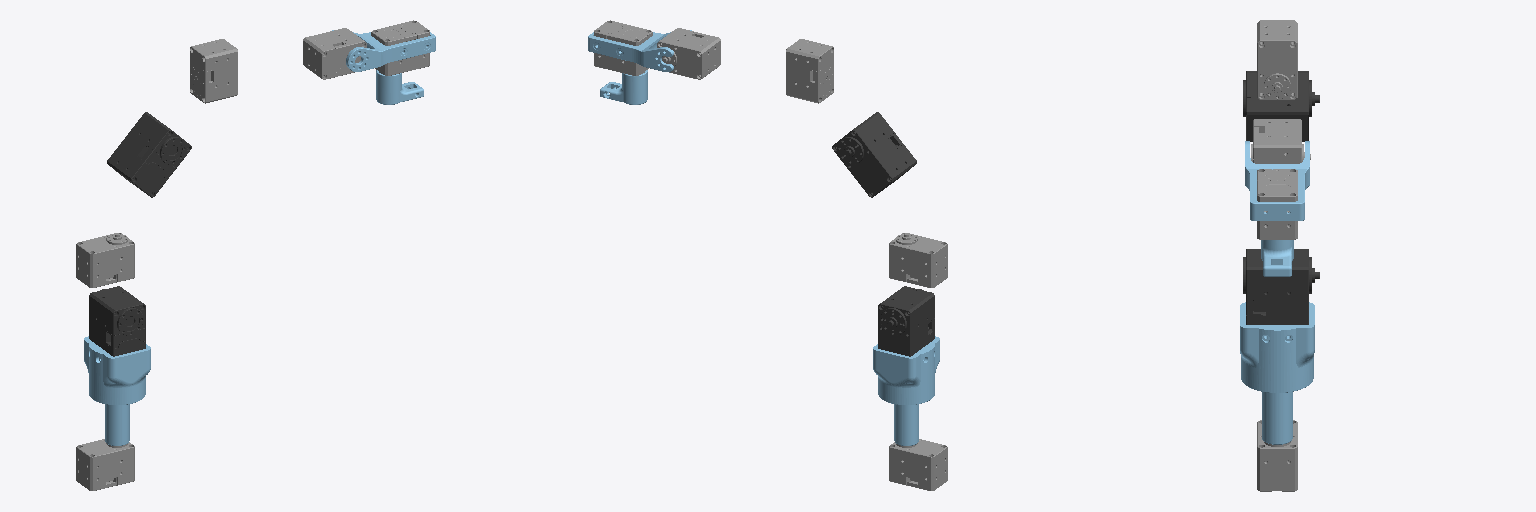
URDF robot description (franka_exo):
<?xml version="1.0" ?>
<robot name="franka_exo">
  <!-- Link link_base -->
  <link name="link_base">
    <inertial>
      <origin xyz="-0.00631608 1.96769e-09 0.0373238" rpy="0 0 0"/>
      <mass value="0.0921375"/>
      <inertia ixx="0.000196007" ixy="-7.51359e-11" ixz="-2.24846e-05" iyy="0.000181714" iyz="-1.08584e-10" izz="0.000140674"/>
    </inertial>
    <!-- Part link_base -->
    <visual>
      <origin xyz="0 0 0" rpy="0 -0 0"/>
      <geometry>
        <mesh filename="package://assets/link_base.stl"/>
      </geometry>
      <material name="link_base_material">
        <color rgba="0.615686 0.811765 0.929412 1.0"/>
      </material>
    </visual>
    <collision>
      <origin xyz="0 0 0" rpy="0 -0 0"/>
      <geometry>
        <mesh filename="package://assets/link_base.stl"/>
      </geometry>
    </collision>
  </link>
  <!-- Link motor430_1 -->
  <link name="motor430_1">
    <inertial>
      <origin xyz="-0.0117508 -1.04071e-11 -0.0163946" rpy="0 0 0"/>
      <mass value="0.082"/>
      <inertia ixx="5.47996e-05" ixy="-2.69242e-13" ixz="-9.68372e-07" iyy="9.33719e-05" iyz="-3.58994e-14" izz="8.21586e-05"/>
    </inertial>
    <!-- Part motor430_1 -->
    <visual>
      <origin xyz="0 0 -0.037" rpy="0 -0 0"/>
      <geometry>
        <mesh filename="package://assets/motor430_1.stl"/>
      </geometry>
      <material name="motor430_1_material">
        <color rgba="0.647059 0.647059 0.647059 1.0"/>
      </material>
    </visual>
    <collision>
      <origin xyz="0 0 -0.037" rpy="0 -0 0"/>
      <geometry>
        <mesh filename="package://assets/motor430_1.stl"/>
      </geometry>
    </collision>
  </link>
  <!-- Link link_0 -->
  <link name="link_0">
    <inertial>
      <origin xyz="1.69981e-05 1.84769e-08 0.0628928" rpy="0 0 0"/>
      <mass value="0.07936"/>
      <inertia ixx="7.09676e-05" ixy="1.2917e-10" ixz="2.75894e-08" iyy="6.98041e-05" iyz="2.31576e-12" izz="4.26188e-05"/>
    </inertial>
    <!-- Part link_0 -->
    <visual>
      <origin xyz="-3.08149e-33 -1.62714e-18 -0.0394" rpy="-6.12323e-17 -0 -5.80831e-33"/>
      <geometry>
        <mesh filename="package://assets/link_0.stl"/>
      </geometry>
      <material name="link_0_material">
        <color rgba="0.615686 0.811765 0.929412 1.0"/>
      </material>
    </visual>
    <collision>
      <origin xyz="-3.08149e-33 -1.62714e-18 -0.0394" rpy="-6.12323e-17 -0 -5.80831e-33"/>
      <geometry>
        <mesh filename="package://assets/link_0.stl"/>
      </geometry>
    </collision>
  </link>
  <!-- Link motor540_2 -->
  <link name="motor540_2">
    <inertial>
      <origin xyz="-3.71779e-10 -0.000530347 -0.0297101" rpy="0 0 0"/>
      <mass value="0.173"/>
      <inertia ixx="0.00030311" ixy="4.07257e-12" ixz="8.1428e-13" iyy="0.000250045" iyz="-1.41225e-06" izz="0.000172066"/>
    </inertial>
    <!-- Part motor540_2 -->
    <visual>
      <origin xyz="1.59157e-17 1.55134e-17 0.12175" rpy="3.14159 -0 5.80831e-33"/>
      <geometry>
        <mesh filename="package://assets/motor540_2.stl"/>
      </geometry>
      <material name="motor540_2_material">
        <color rgba="0.301961 0.301961 0.301961 1.0"/>
      </material>
    </visual>
    <collision>
      <origin xyz="1.59157e-17 1.55134e-17 0.12175" rpy="3.14159 -0 5.80831e-33"/>
      <geometry>
        <mesh filename="package://assets/motor540_2.stl"/>
      </geometry>
    </collision>
  </link>
  <!-- Link link_1 -->
  <link name="link_1">
    <inertial>
      <origin xyz="0.000692268 -0.0612309 -0.0247849" rpy="0 0 0"/>
      <!-- 0.1381+0.0214-0.082 -->
      <mass value="0.0775"/>
      <inertia ixx="0.000128786" ixy="-3.56721e-07" ixz="-7.31199e-09" iyy="5.54436e-05" iyz="7.41134e-07" izz="0.000108163"/>
    </inertial>
    <!-- Part link_1 -->
    <visual>
      <origin xyz="1.63123e-17 0.1665 -0.0247" rpy="1.5708 -1.40039e-45 0"/>
      <geometry>
        <mesh filename="package://assets/link_1.stl"/>
      </geometry>
      <material name="link_1_material">
        <color rgba="0.615686 0.811765 0.929412 1.0"/>
      </material>
    </visual>
    <collision>
      <origin xyz="1.63123e-17 0.1665 -0.0247" rpy="1.5708 -1.40039e-45 0"/>
      <geometry>
        <mesh filename="package://assets/link_1.stl"/>
      </geometry>
    </collision>
  </link>
  <!-- Link motor430_3 -->
  <link name="motor430_3">
    <inertial>
      <origin xyz="-0.0117508 -1.04073e-11 -0.0163946" rpy="0 0 0"/>
      <mass value="0.082"/>
      <inertia ixx="5.47996e-05" ixy="-2.69242e-13" ixz="-9.68372e-07" iyy="9.33719e-05" iyz="-3.59002e-14" izz="8.21586e-05"/>
    </inertial>
    <!-- Part motor430_3 -->
    <visual>
      <origin xyz="0 0 -0.237" rpy="5.60519e-45 -0 -5.06258e-45"/>
      <geometry>
        <mesh filename="package://assets/motor430_3.stl"/>
      </geometry>
      <material name="motor430_3_material">
        <color rgba="0.647059 0.647059 0.647059 1.0"/>
      </material>
    </visual>
    <collision>
      <origin xyz="0 0 -0.237" rpy="5.60519e-45 -0 -5.06258e-45"/>
      <geometry>
        <mesh filename="package://assets/motor430_3.stl"/>
      </geometry>
    </collision>
  </link>
  <!-- Link link_2 -->
  <link name="link_2">
    <inertial>
      <origin xyz="0.00261601 2.96796e-07 0.0474293" rpy="0 0 0"/>
      <mass value="0.0444"/>
      <inertia ixx="5.81373e-05" ixy="5.49634e-10" ixz="-2.48539e-06" iyy="5.58639e-05" iyz="1.1429e-10" izz="5.27528e-05"/>
    </inertial>
    <!-- Part link_2 -->
    <visual>
      <origin xyz="-1.2326e-32 1.41753e-17 -0.239227" rpy="5.60519e-45 -4.93038e-32 2.52435e-29"/>
      <geometry>
        <mesh filename="package://assets/link_2.stl"/>
      </geometry>
      <material name="link_2_material">
        <color rgba="0.615686 0.811765 0.929412 1.0"/>
      </material>
    </visual>
    <collision>
      <origin xyz="-1.2326e-32 1.41753e-17 -0.239227" rpy="5.60519e-45 -4.93038e-32 2.52435e-29"/>
      <geometry>
        <mesh filename="package://assets/link_2.stl"/>
      </geometry>
    </collision>
  </link>
  <!-- Link motor540_4 -->
  <link name="motor540_4">
    <inertial>
      <origin xyz="0.0229601 -0.00853035 -0.01675" rpy="0 0 0"/>
      <mass value="0.1732"/>
      <inertia ixx="0.000172066" ixy="1.41225e-06" ixz="-8.1428e-13" iyy="0.000250045" iyz="4.07257e-12" izz="0.00030311"/>
    </inertial>
    <!-- Part motor540_4 -->
    <visual>
      <origin xyz="-0.222569 -0.008 0.181593" rpy="3.14159 -0.785398 1.12104e-44"/>
      <geometry>
        <mesh filename="package://assets/motor540_4.stl"/>
      </geometry>
      <material name="motor540_4_material">
        <color rgba="0.301961 0.301961 0.301961 1.0"/>
      </material>
    </visual>
    <collision>
      <origin xyz="-0.222569 -0.008 0.181593" rpy="3.14159 -0.785398 1.12104e-44"/>
      <geometry>
        <mesh filename="package://assets/motor540_4.stl"/>
      </geometry>
    </collision>
  </link>
  <!-- Link link_3 -->
  <link name="link_3">
    <inertial>
      <origin xyz="-0.0344992 -0.0669003 -0.0247597" rpy="0 0 0"/>
      <!-- 0.145-0.082+0.0214 -->
      <mass value="0.0844"/>
      <inertia ixx="0.000269491" ixy="-6.36052e-05" ixz="4.3825e-07" iyy="8.92212e-05" iyz="8.09945e-07" izz="0.000281089"/>
    </inertial>
    <!-- Part link_3 -->
    <visual>
      <origin xyz="-0.044 0.3245 -0.0247" rpy="1.5708 3.76984e-17 0"/>
      <geometry>
        <mesh filename="package://assets/link_3.stl"/>
      </geometry>
      <material name="link_3_material">
        <color rgba="0.615686 0.811765 0.929412 1.0"/>
      </material>
    </visual>
    <collision>
      <origin xyz="-0.044 0.3245 -0.0247" rpy="1.5708 3.76984e-17 0"/>
      <geometry>
        <mesh filename="package://assets/link_3.stl"/>
      </geometry>
    </collision>
  </link>
  <!-- Link motor430_5 -->
  <link name="motor430_5">
    <inertial>
      <origin xyz="-0.0117508 -1.04063e-11 -0.0163946" rpy="0 0 0"/>
      <mass value="0.082"/>
      <inertia ixx="5.47996e-05" ixy="-2.6924e-13" ixz="-9.68372e-07" iyy="9.33719e-05" iyz="-3.58955e-14" izz="8.21586e-05"/>
    </inertial>
    <!-- Part motor430_5 -->
    <visual>
      <origin xyz="0 -1.17343e-29 -0.397" rpy="1.79736e-30 -0 0"/>
      <geometry>
        <mesh filename="package://assets/motor430_5.stl"/>
      </geometry>
      <material name="motor430_5_material">
        <color rgba="0.647059 0.647059 0.647059 1.0"/>
      </material>
    </visual>
    <collision>
      <origin xyz="0 -1.17343e-29 -0.397" rpy="1.79736e-30 -0 0"/>
      <geometry>
        <mesh filename="package://assets/motor430_5.stl"/>
      </geometry>
    </collision>
  </link>
  <!-- Link link_4 -->
  <link name="link_4">
    <inertial>
      <origin xyz="1.68698e-05 1.58818e-07 0.0624505" rpy="0 0 0"/>
      <mass value="0.039"/>
      <inertia ixx="6.0696e-05" ixy="-1.77117e-10" ixz="2.08334e-08" iyy="5.96305e-05" iyz="6.61369e-11" izz="3.09362e-05"/>
    </inertial>
    <!-- Part link_4 -->
    <visual>
      <origin xyz="0 -2.251e-18 -0.3992" rpy="3.87091e-30 -0 0"/>
      <geometry>
        <mesh filename="package://assets/link_4.stl"/>
      </geometry>
      <material name="link_4_material">
        <color rgba="0.615686 0.811765 0.929412 1.0"/>
      </material>
    </visual>
    <collision>
      <origin xyz="0 -2.251e-18 -0.3992" rpy="3.87091e-30 -0 0"/>
      <geometry>
        <mesh filename="package://assets/link_4.stl"/>
      </geometry>
    </collision>
  </link>
  <!-- Link motor430_6 -->
  <link name="motor430_6">
    <inertial>
      <origin xyz="0.0063931 -0.016384 -0.01425" rpy="0 0 0"/>
      <mass value="0.082"/>
      <inertia ixx="8.28941e-05" ixy="1.18561e-07" ixz="3.69975e-14" iyy="5.62377e-05" iyz="-2.58387e-13" izz="9.53494e-05"/>
    </inertial>
    <!-- Part motor430_6 -->
    <visual>
      <origin xyz="0.006 0.4885 -0.01425" rpy="1.5708 1.5708 0"/>
      <geometry>
        <mesh filename="package://assets/motor430_6.stl"/>
      </geometry>
      <material name="motor430_6_material">
        <color rgba="0.647059 0.647059 0.647059 1.0"/>
      </material>
    </visual>
    <collision>
      <origin xyz="0.006 0.4885 -0.01425" rpy="1.5708 1.5708 0"/>
      <geometry>
        <mesh filename="package://assets/motor430_6.stl"/>
      </geometry>
    </collision>
  </link>
  <!-- Link link_5 -->
  <link name="link_5">
    <inertial>
      <origin xyz="0.0361167 0.00387419 -0.0195081" rpy="0 0 0"/>
      <!-- 0.022+0.082 -->
      <mass value="0.104"/>
      <inertia ixx="6.832e-06" ixy="-5.00654e-07" ixz="-3.31464e-07" iyy="2.04595e-05" iyz="-2.9315e-08" izz="1.47742e-05"/>
    </inertial>
    <!-- Part motor_7 -->
    <visual>
      <origin xyz="-3.33067e-16 0.5165 -0.0192" rpy="1.5708 3.8416e-14 -5.55112e-17"/>
      <geometry>
        <mesh filename="package://assets/motor_7.stl"/>
      </geometry>
      <material name="motor_7_material">
        <color rgba="0.647059 0.647059 0.647059 1.0"/>
      </material>
    </visual>
    <collision>
      <origin xyz="-3.33067e-16 0.5165 -0.0192" rpy="1.5708 3.8416e-14 -5.55112e-17"/>
      <geometry>
        <mesh filename="package://assets/motor_7.stl"/>
      </geometry>
    </collision>
    <!-- Part link_5 -->
    <visual>
      <origin xyz="2.77556e-17 0.5165 -0.0192" rpy="1.5708 -6.13657e-30 0"/>
      <geometry>
        <mesh filename="package://assets/link_5.stl"/>
      </geometry>
      <material name="link_5_material">
        <color rgba="0.615686 0.811765 0.929412 1.0"/>
      </material>
    </visual>
    <collision>
      <origin xyz="2.77556e-17 0.5165 -0.0192" rpy="1.5708 -6.13657e-30 0"/>
      <geometry>
        <mesh filename="package://assets/link_5.stl"/>
      </geometry>
    </collision>
  </link>
  <!-- Link flange -->
  <link name="flange">
    <inertial>
      <origin xyz="0.00477078 3.79518e-05 0.0167904" rpy="0 0 0"/>
      <mass value="0.0195"/>
      <inertia ixx="1.55713e-06" ixy="-9.0833e-09" ixz="-5.18572e-07" iyy="2.48615e-06" iyz="-4.16646e-09" izz="1.99925e-06"/>
    </inertial>
    <!-- Part flange -->
    <visual>
      <origin xyz="-0.044 -6.40162e-19 0.487" rpy="3.14159 1.22465e-16 -6.3414e-30"/>
      <geometry>
        <mesh filename="package://assets/flange.stl"/>
      </geometry>
      <material name="flange_material">
        <color rgba="0.615686 0.811765 0.929412 1.0"/>
      </material>
    </visual>
    <collision>
      <origin xyz="-0.044 -6.40162e-19 0.487" rpy="3.14159 1.22465e-16 -6.3414e-30"/>
      <geometry>
        <mesh filename="package://assets/flange.stl"/>
      </geometry>
    </collision>
  </link>
  <!-- Joint from link_5 to flange -->
  <joint name="joint_7" type="revolute">
    <origin xyz="0.044 0.0295 -0.0192" rpy="-1.5708 3.30068e-14 -1.35188e-15"/>
    <parent link="link_5"/>
    <child link="flange"/>
    <axis xyz="0 0 1"/>
    <limit effort="10" velocity="10" lower="-3.05433" upper="3.05433"/>
  </joint>
  <!-- Joint from motor430_6 to link_5 -->
  <joint name="joint_6" type="revolute">
    <origin xyz="0.0252 -0.028 -0.01425" rpy="-1.5708 5.80092e-14 -1.5708"/>
    <parent link="motor430_6"/>
    <child link="link_5"/>
    <axis xyz="0 0 1"/>
    <limit effort="10" velocity="10" lower="-3.05433" upper="1.13446"/>
  </joint>
  <!-- Joint from link_4 to motor430_6 -->
  <joint name="fix_motor6_to_link4" type="fixed">
    <origin xyz="-0.01425 -0.006 0.0893" rpy="-1.5708 2.70099e-17 1.5708"/>
    <parent link="link_4"/>
    <child link="motor430_6"/>
    <axis xyz="0 0 1"/>
    <limit effort="10" velocity="10"/>
  </joint>
  <!-- Joint from motor430_5 to link_4 -->
  <joint name="joint_5" type="revolute">
    <origin xyz="0 -1.81822e-19 0.002" rpy="-3.25397e-27 -5.55112e-17 2.57646e-14"/>
    <parent link="motor430_5"/>
    <child link="link_4"/>
    <axis xyz="0 0 1"/>
    <limit effort="10" velocity="10" lower="-2.87979" upper="2.87979"/>
  </joint>
  <!-- Joint from link_3 to motor430_5 -->
  <joint name="fix_motor5_to_link3" type="fixed">
    <origin xyz="-0.044 -0.0727 -0.0247" rpy="1.5708 3.76984e-17 1.11022e-16"/>
    <parent link="link_3"/>
    <child link="motor430_5"/>
    <axis xyz="0 0 1"/>
    <limit effort="10" velocity="10"/>
  </joint>
  <!-- Joint from motor540_4 to link_3 -->
  <joint name="joint_4" type="revolute">
    <origin xyz="0.038 -0.0327 -0.01675" rpy="-1.5708 -0.785398 3.14159"/>
    <parent link="motor540_4"/>
    <child link="link_3"/>
    <axis xyz="0 0 1"/>
    <limit effort="10" velocity="10" lower="-1.44862" upper="1.50098"/>
  </joint>
  <!-- Joint from link_2 to motor540_4 -->
  <joint name="fix_motor4_to_link2" type="fixed">
    <origin xyz="0.028974 -0.008 0.0465588" rpy="3.14159 -0.785398 -1.47679e-29"/>
    <parent link="link_2"/>
    <child link="motor540_4"/>
    <axis xyz="0 0 1"/>
    <limit effort="10" velocity="10"/>
  </joint>
  <!-- Joint from motor430_3 to link_2 -->
  <joint name="joint_3" type="revolute">
    <origin xyz="9.64431e-20 -1.81822e-19 0.002" rpy="-3.86284e-29 1.11022e-16 -1.6906e-14"/>
    <parent link="motor430_3"/>
    <child link="link_2"/>
    <axis xyz="0 0 1"/>
    <limit effort="10" velocity="10" lower="-2.89725" upper="2.89725"/>
  </joint>
  <!-- Joint from link_1 to motor430_3 -->
  <joint name="fix_motor3_to_link1" type="fixed">
    <origin xyz="1.63123e-17 -0.0706999 -0.0247" rpy="1.5708 1.76705e-28 -9.86076e-31"/>
    <parent link="link_1"/>
    <child link="motor430_3"/>
    <axis xyz="0 0 1"/>
    <limit effort="10" velocity="10"/>
  </joint>
  <!-- Joint from motor540_2 to link_1 -->
  <joint name="joint_2" type="revolute">
    <origin xyz="-7.64974e-17 -0.0247 -0.04475" rpy="1.5708 -6.19003e-17 3.28175e-28"/>
    <parent link="motor540_2"/>
    <child link="link_1"/>
    <axis xyz="0 0 1"/>
    <limit effort="10" velocity="10" lower="-1.8326" upper="1.8326"/>
  </joint>
  <!-- Joint from link_0 to motor540_2 -->
  <joint name="fix_motor2_to_link0" type="fixed">
    <origin xyz="-1.16691e-17 -1.37997e-18 0.08235" rpy="3.14159 7.90463e-29 3.2816e-28"/>
    <parent link="link_0"/>
    <child link="motor540_2"/>
    <axis xyz="0 0 1"/>
    <limit effort="10" velocity="10"/>
  </joint>
  <!-- Joint from motor430_1 to link_0 -->
  <joint name="joint_1" type="revolute">
    <origin xyz="2.9484e-17 -1.81822e-19 0.002" rpy="5.55112e-17 1.04633e-16 -2.02595e-13"/>
    <parent link="motor430_1"/>
    <child link="link_0"/>
    <axis xyz="0 0 1"/>
    <limit effort="10" velocity="10" lower="-2.89725" upper="2.89725"/>
  </joint>
  <!-- Joint from link_base to motor430_1 -->
  <joint name="fix_motor1_to_link_base" type="fixed">
    <origin xyz="0 8.57253e-19 0.0372" rpy="0 -0 0"/>
    <parent link="link_base"/>
    <child link="motor430_1"/>
    <axis xyz="0 0 1"/>
    <limit effort="10" velocity="10"/>
  </joint>
</robot>

--- Render facts (derived) ---
The picture shows the robot from 3 angles, left to right: view 1: azimuth 30°, elevation 25°; view 2: azimuth 150°, elevation 25°; view 3: azimuth 270°, elevation 25°; orthographic projection.
Model franka_exo with 14 links and 13 joints (7 revolute, 6 fixed), rooted at link_base, posed every joint at zero.
Visible links, largest first — view 1: link_0, motor540_4, link_5, motor540_2, motor430_3, motor430_5, motor430_1, motor430_6, flange; view 2: link_0, motor540_4, link_5, motor540_2, motor430_3, motor430_5, motor430_1, motor430_6, flange; view 3: link_0, link_5, motor540_2, motor430_5, motor540_4, motor430_6, motor430_1, flange.
Link boxes in pixels (left/top/right/bottom): link_0: left=84, top=336, right=150, bottom=445; motor540_4: left=107, top=112, right=191, bottom=197; link_5: left=332, top=20, right=435, bottom=75; motor540_2: left=89, top=286, right=145, bottom=356; motor430_3: left=76, top=233, right=134, bottom=287; motor430_5: left=190, top=39, right=237, bottom=103; motor430_1: left=76, top=439, right=134, bottom=490; motor430_6: left=303, top=28, right=366, bottom=79; flange: left=376, top=70, right=423, bottom=104; link_0: left=873, top=336, right=939, bottom=445; motor540_4: left=832, top=112, right=916, bottom=197; link_5: left=588, top=20, right=691, bottom=75; motor540_2: left=878, top=286, right=934, bottom=356; motor430_3: left=889, top=233, right=947, bottom=287; motor430_5: left=786, top=39, right=833, bottom=103; motor430_1: left=889, top=439, right=947, bottom=490; motor430_6: left=657, top=28, right=720, bottom=79; flange: left=600, top=70, right=647, bottom=104; link_0: left=1240, top=302, right=1314, bottom=444; link_5: left=1245, top=141, right=1309, bottom=239; motor540_2: left=1243, top=249, right=1319, bottom=324; motor430_5: left=1257, top=20, right=1297, bottom=99; motor540_4: left=1243, top=71, right=1319, bottom=141; motor430_6: left=1251, top=119, right=1310, bottom=163; motor430_1: left=1257, top=420, right=1297, bottom=491; flange: left=1261, top=240, right=1293, bottom=276.
Bounding box of the posed robot: 0.3537 × 0.056 × 0.4003 m (x, y, z).
Meshes: 15 distinct files referenced, 10 mesh visuals loaded (10 binary STL); not drawn: 5 (reference not matched to a file when rendering).
